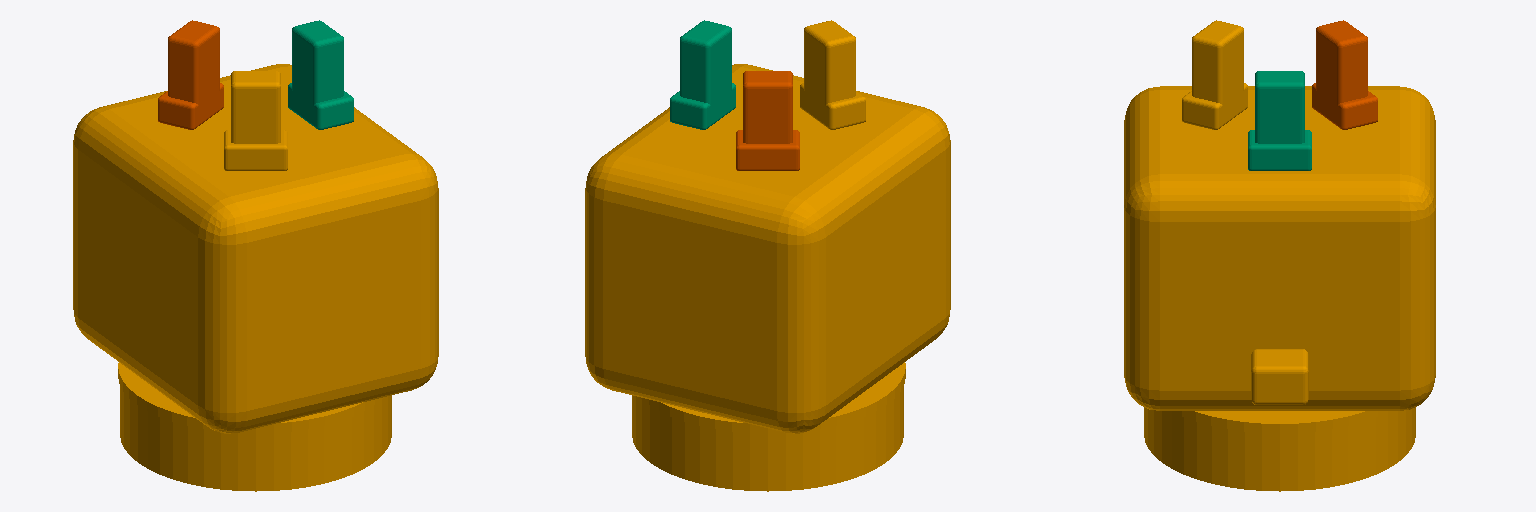
The robot description file, URDF, robot "ckd_rckl_ur":
<?xml version="1.0"?>
<robot name="ckd_rckl_ur">
<link name="mount"><visual ><geometry ><mesh filename="../meshes/rckl-ur/mount.obj"/></geometry></visual><collision ><origin xyz="0 0 0.009" rpy="0 0 0"/><geometry ><cylinder radius="0.038" length="0.018"/></geometry></collision><collision ><origin xyz="0 0 0.0555" rpy="0 0 0"/><geometry ><box size="0.076 0.087 0.075"/></geometry></collision></link>
<link name="jaw_1_origin"></link>
<link name="jaw_1"><visual ><geometry ><mesh filename="../meshes/rckl-ur/jaw_1.obj"/></geometry></visual><collision ><origin xyz="0.021 0 0.097" rpy="0 0 0"/><geometry ><box size="0.012 0.018 0.008"/></geometry></collision><collision ><origin xyz="0.02 0 0.1062" rpy="0 0 0"/><geometry ><box size="0.01 0.014 0.0264"/></geometry></collision></link>
<link name="jaw_1_contact"></link>
<link name="jaw_2_origin"></link>
<link name="jaw_2"><visual ><geometry ><mesh filename="../meshes/rckl-ur/jaw_2.obj"/></geometry></visual><collision ><origin xyz="0.021 0 0.097" rpy="0 0 0"/><geometry ><box size="0.012 0.018 0.008"/></geometry></collision><collision ><origin xyz="0.02 0 0.1062" rpy="0 0 0"/><geometry ><box size="0.01 0.014 0.0264"/></geometry></collision></link>
<link name="jaw_2_contact"></link>
<link name="jaw_3_origin"></link>
<link name="jaw_3"><visual ><geometry ><mesh filename="../meshes/rckl-ur/jaw_3.obj"/></geometry></visual><collision ><origin xyz="0.021 0 0.097" rpy="0 0 0"/><geometry ><box size="0.012 0.018 0.008"/></geometry></collision><collision ><origin xyz="0.02 0 0.1062" rpy="0 0 0"/><geometry ><box size="0.01 0.014 0.0264"/></geometry></collision></link>
<link name="jaw_3_contact"></link>
<link name="tcp"></link>
<joint name="jaw_1_origin_joint" type="fixed"><parent link="mount"/><child link="jaw_1_origin"/><origin xyz="0 0 0" rpy="0 0 0"/></joint>
<joint name="jaw_1_contact_joint" type="fixed"><parent link="jaw_1"/><child link="jaw_1_contact"/><origin xyz="0.015 0 0.1094" rpy="0 0 0"/></joint>
<joint name="finger_joint" type="prismatic"><parent link="jaw_1_origin"/><child link="jaw_1"/><origin xyz="0 0 0" rpy="0 0 0"/><axis xyz="1 0 0"/><limit lower="0" upper="0.005" velocity="0.05" effort="125"/></joint>
<joint name="jaw_2_origin_joint" type="fixed"><parent link="mount"/><child link="jaw_2_origin"/><origin xyz="0 0 0" rpy="0 0 2.09439510239"/></joint>
<joint name="jaw_2_contact_joint" type="fixed"><parent link="jaw_2"/><child link="jaw_2_contact"/><origin xyz="0.015 0 0.1094" rpy="0 0 0"/></joint>
<joint name="jaw_2_mimic_joint" type="prismatic"><parent link="jaw_2_origin"/><child link="jaw_2"/><origin xyz="0 0 0" rpy="0 0 0"/><axis xyz="1 0 0"/><limit lower="0" upper="0.005" velocity="0.05" effort="125"/><mimic joint="finger_joint" multiplier="1" offset="0"/></joint>
<joint name="jaw_3_origin_joint" type="fixed"><parent link="mount"/><child link="jaw_3_origin"/><origin xyz="0 0 0" rpy="0 0 4.18879020479"/></joint>
<joint name="jaw_3_contact_joint" type="fixed"><parent link="jaw_3"/><child link="jaw_3_contact"/><origin xyz="0.015 0 0.1094" rpy="0 0 0"/></joint>
<joint name="jaw_3_mimic_joint" type="prismatic"><parent link="jaw_3_origin"/><child link="jaw_3"/><origin xyz="0 0 0" rpy="0 0 0"/><axis xyz="1 0 0"/><limit lower="0" upper="0.005" velocity="0.05" effort="125"/><mimic joint="finger_joint" multiplier="1" offset="0"/></joint>
<joint name="tcp_joint" type="fixed"><parent link="mount"/><child link="tcp"/><origin xyz="0 0 0.1094" rpy="0 0 0"/></joint>
</robot>

--- Facts derived from the render (not from the file) ---
3 views of the same robot in one strip: view 1: azimuth 30°, elevation 25°; view 2: azimuth 150°, elevation 25°; view 3: azimuth 270°, elevation 25° (orthographic).
Robot: ckd_rckl_ur — 11 links, 10 joints (3 prismatic, 7 fixed); root link mount; default pose: all joints at 0.
Links seen in each view (by area): view 1: mount, jaw_3, jaw_1, jaw_2; view 2: mount, jaw_2, jaw_1, jaw_3; view 3: mount, jaw_1, jaw_2, jaw_3.
Boxes of the visible links, <box> form: mount: <box>73,64,438,491</box>; jaw_3: <box>224,71,287,170</box>; jaw_1: <box>288,20,353,129</box>; jaw_2: <box>158,20,223,129</box>; mount: <box>585,64,950,491</box>; jaw_2: <box>736,71,799,170</box>; jaw_1: <box>670,20,735,129</box>; jaw_3: <box>800,20,865,129</box>; mount: <box>1124,86,1435,491</box>; jaw_1: <box>1248,71,1311,170</box>; jaw_2: <box>1312,20,1377,129</box>; jaw_3: <box>1182,20,1247,129</box>.
Bounding box of the posed robot: 0.0895 × 0.087 × 0.1194 m (x, y, z).
Meshes: 4 distinct files referenced, 4 mesh visuals loaded (4 OBJ).
